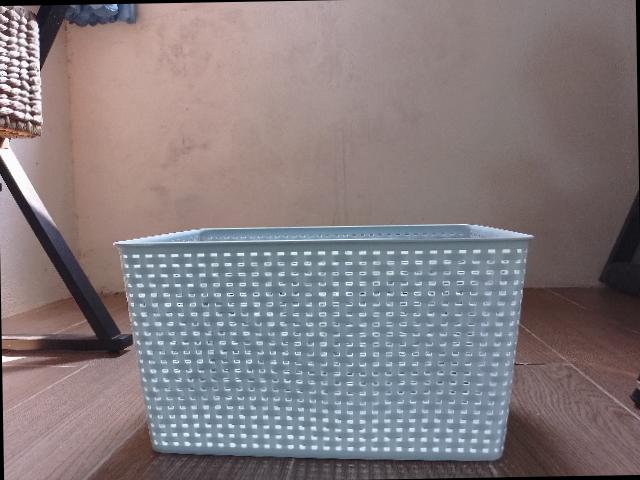cart: (112, 223, 534, 461)
